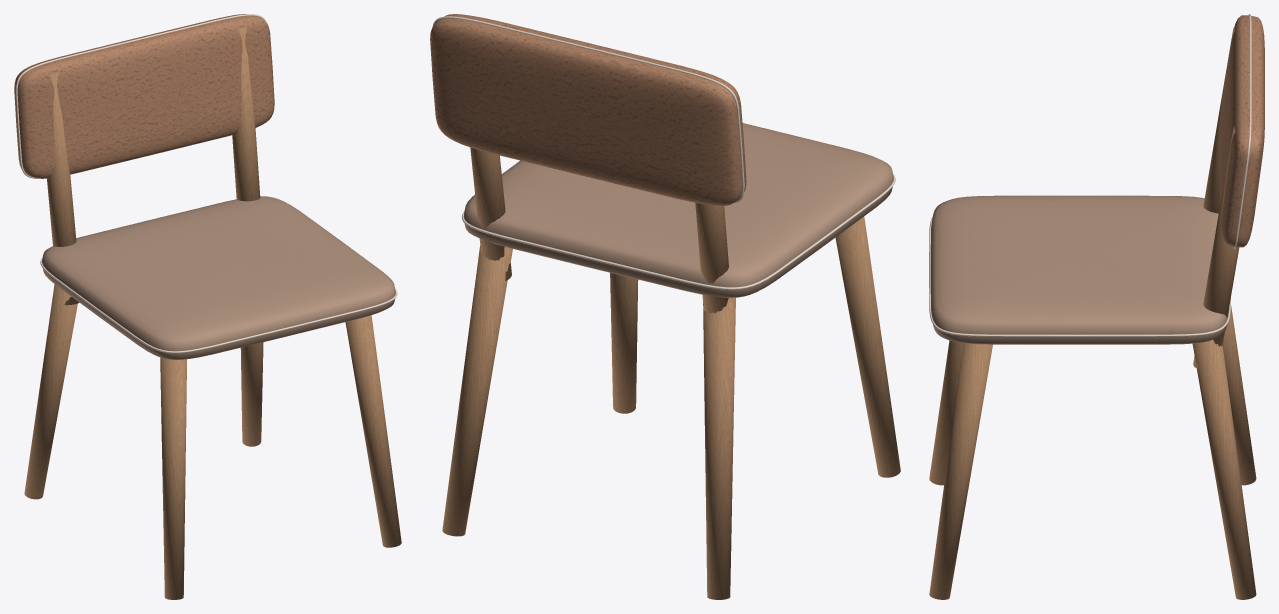
The model's file is contemporary.dining_chair.gltf.
3 renders of one model, left to right at view 1: azimuth 30°, elevation 25°; view 2: azimuth 150°, elevation 25°; view 3: azimuth 270°, elevation 25°, orthographic. The views are drawn at different scales.
Visible parts, largest first — view 1: contemporary.dining_chair.leg; view 2: contemporary.dining_chair.leg; view 3: contemporary.dining_chair.leg.
Part boxes in pixels (x1,y1,x2,y2): contemporary.dining_chair.leg: [14, 14, 401, 599]; contemporary.dining_chair.leg: [430, 14, 900, 599]; contemporary.dining_chair.leg: [929, 14, 1264, 599].
Size of the model in its own units: 0.4897 by 0.7936 by 0.5156.
Materials: 4 (3 with a texture image).
